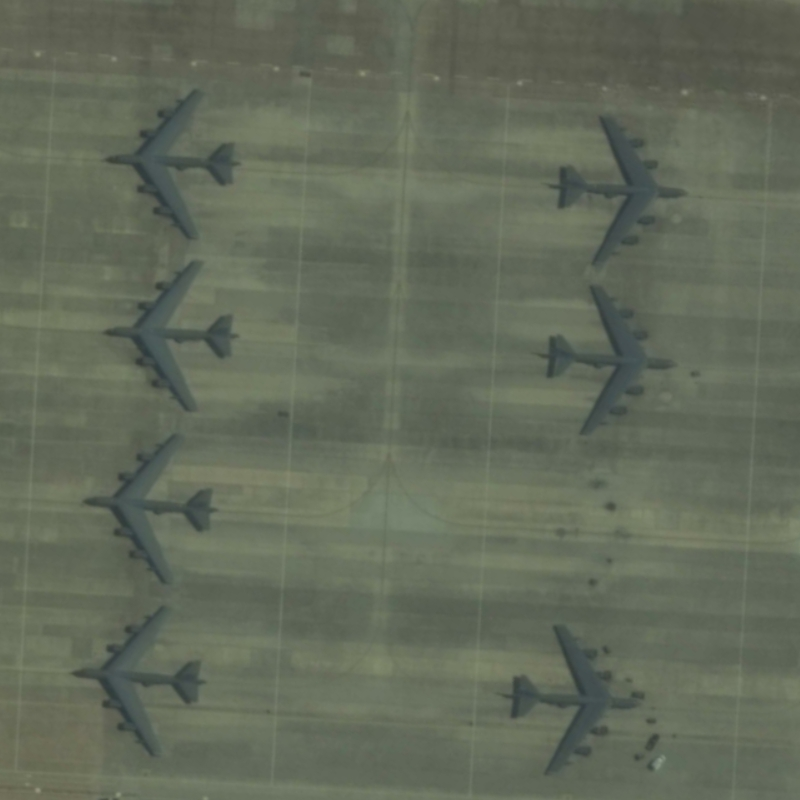A8: (69, 425, 228, 593), (61, 600, 216, 767), (96, 80, 253, 244), (94, 250, 243, 420), (544, 273, 684, 449), (505, 609, 642, 788), (554, 105, 693, 278)
